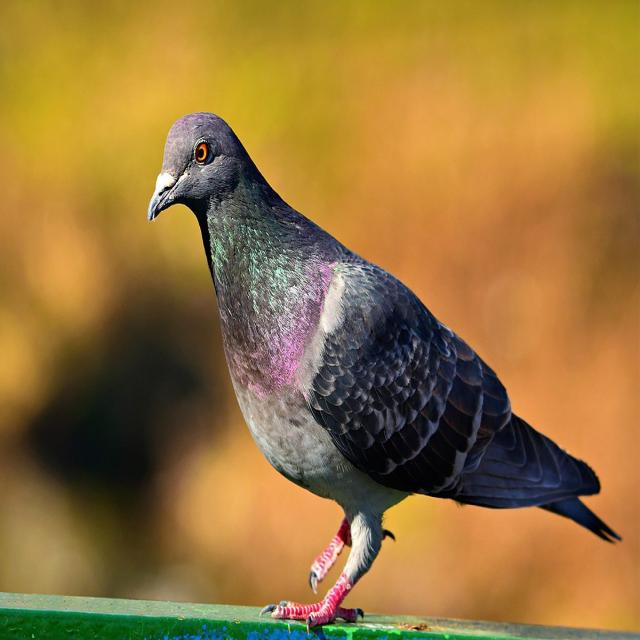Pigeon: (139, 93, 628, 616)
